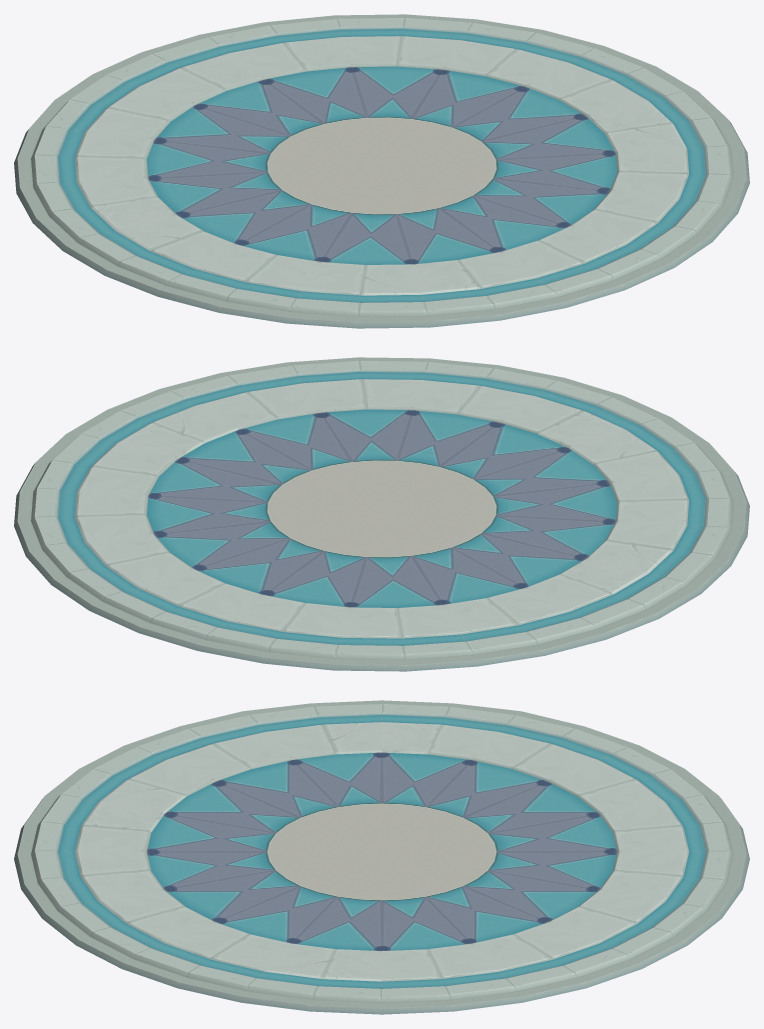
File: zhucheng_zhongxintai.FBX
3 views of the same model, one above another, from view 1: azimuth 30°, elevation 25°; view 2: azimuth 150°, elevation 25°; view 3: azimuth 270°, elevation 25° (orthographic).
Visible parts, largest first — view 1: zhucheng_zhongxintai; view 2: zhucheng_zhongxintai; view 3: zhucheng_zhongxintai.
Part boxes in pixels (x1,y1,x2,y2): zhucheng_zhongxintai: [14, 14, 749, 328]; zhucheng_zhongxintai: [14, 357, 749, 671]; zhucheng_zhongxintai: [14, 700, 749, 1014].
Bounding box in the file's own units: 5515 × 69.72 × 5515.
